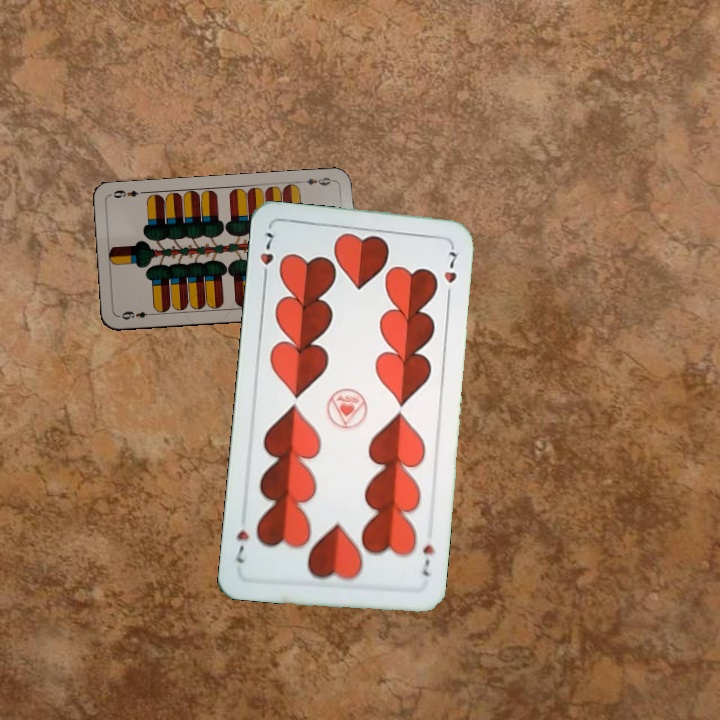E9: (296, 173, 336, 188), (117, 307, 156, 322)
H7: (256, 227, 278, 285), (419, 540, 438, 579)
